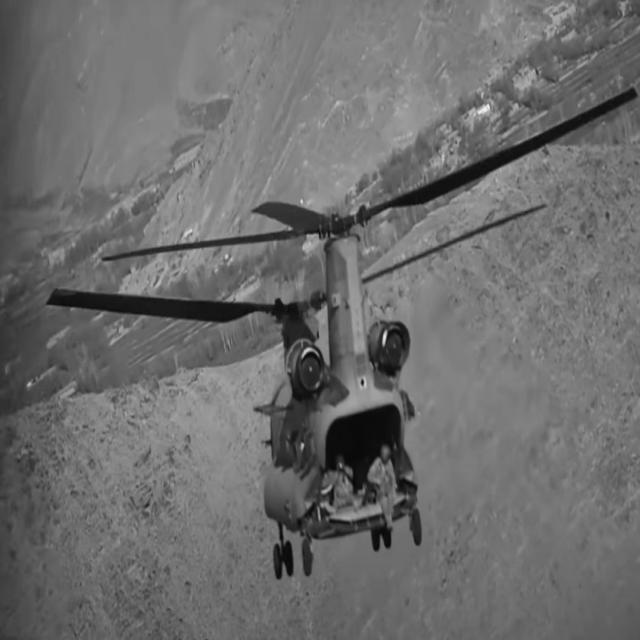Helicopter: (49, 87, 635, 579)
